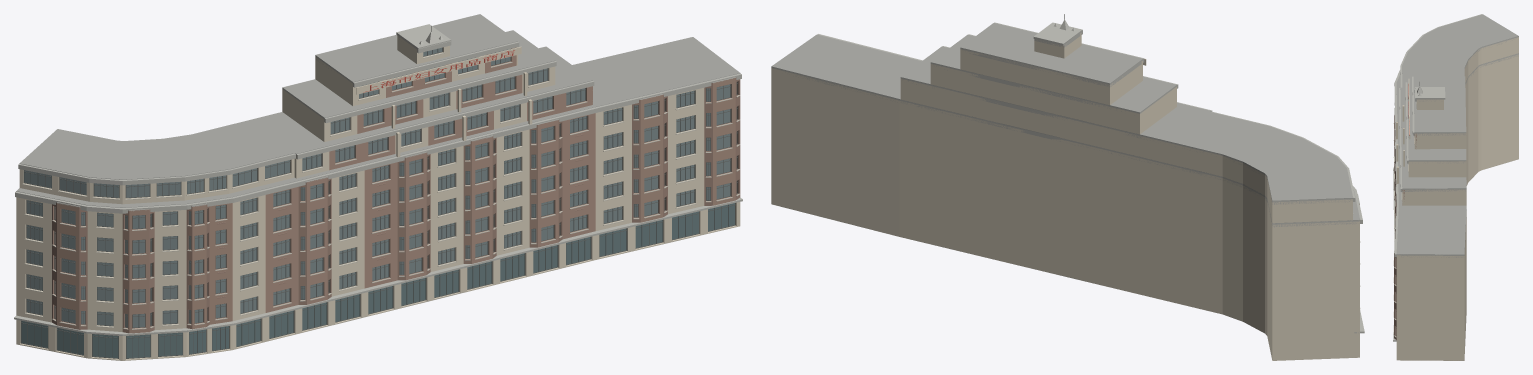
The model's file is huangpu-bearn-apartments-web.glb.
The picture shows the model from 3 angles, left to right: view 1: azimuth 30°, elevation 25°; view 2: azimuth 150°, elevation 25°; view 3: azimuth 270°, elevation 25°; orthographic projection. The views are drawn at different scales.
Parts seen in each view (by area): view 1: 培文公寓（淮海中路街面与重庆南路圆角）; view 2: 培文公寓（淮海中路街面与重庆南路圆角）; view 3: 培文公寓（淮海中路街面与重庆南路圆角）.
Part boxes in pixels (x1,y1,x2,y2): 培文公寓（淮海中路街面与重庆南路圆角）: (14,14,742,360); 培文公寓（淮海中路街面与重庆南路圆角）: (771,14,1364,360); 培文公寓（淮海中路街面与重庆南路圆角）: (1393,14,1518,360).
Bounding box in the file's own units: 91.77 × 34.02 × 21.54.
